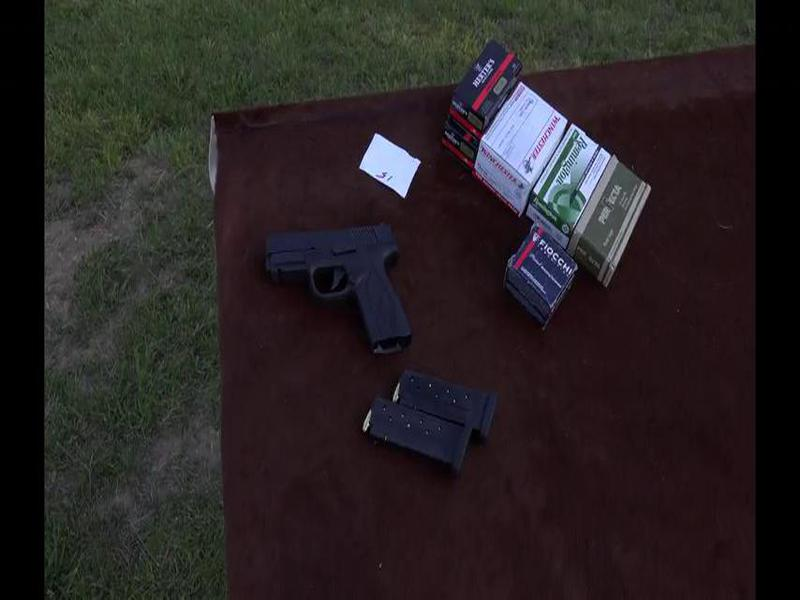Pistola: (257, 214, 427, 359)
